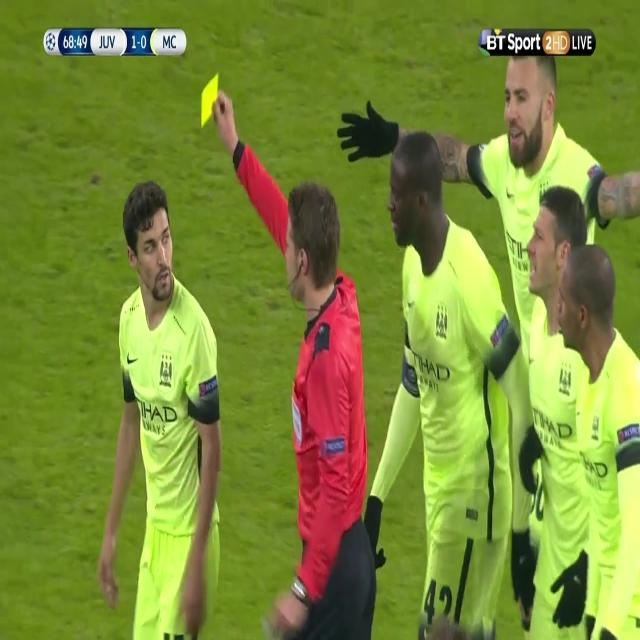Player: (337, 34, 640, 337), (363, 125, 535, 640), (95, 178, 225, 638), (558, 240, 640, 640), (521, 180, 586, 636)
Referee: (200, 75, 379, 640)
